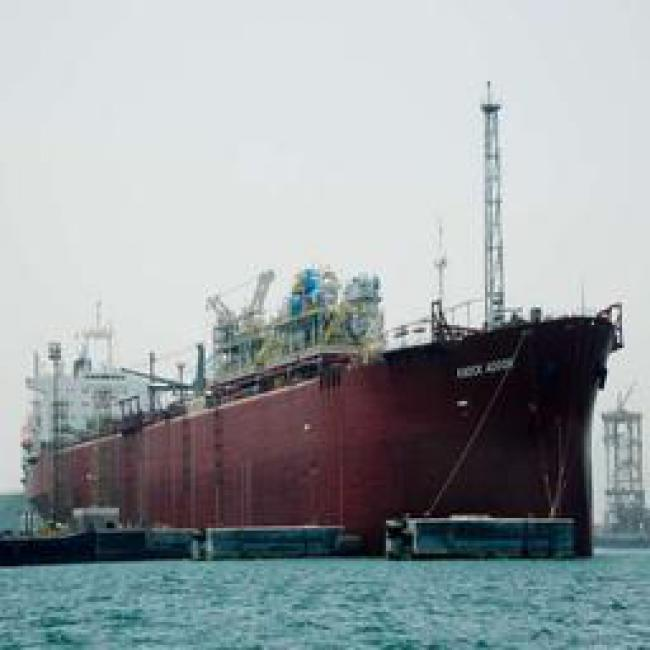Ship: (20, 263, 636, 573)
